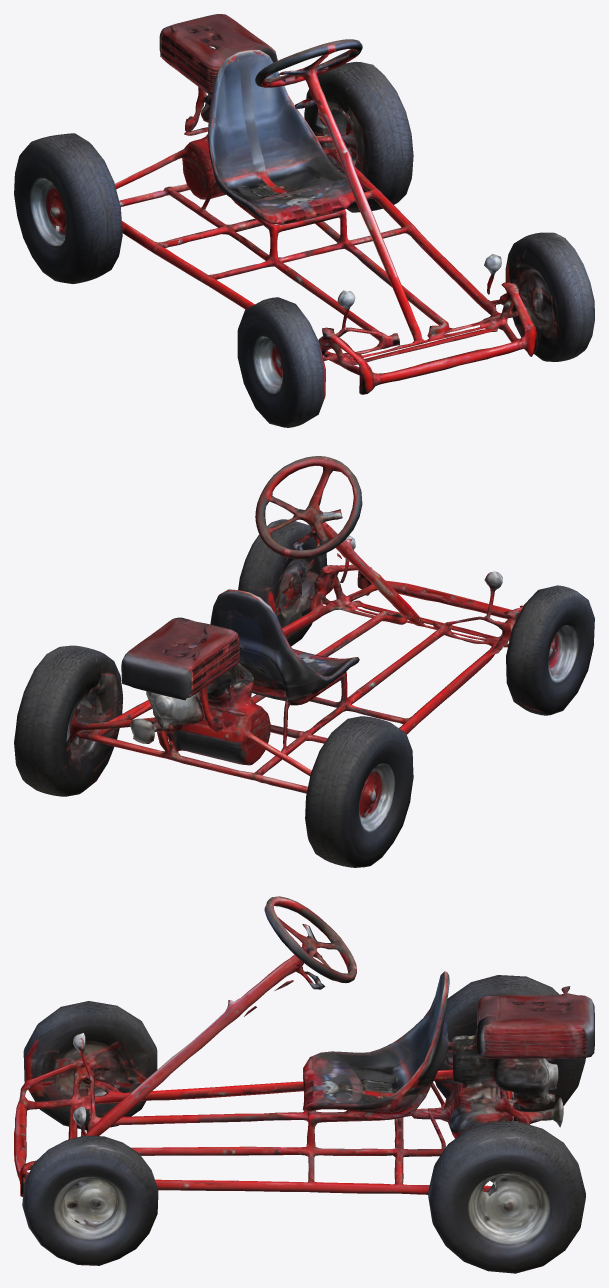
Rendered from _two_seat_go_cart_wit_0328181118_texture.glb.
3 renders of one model, top to bottom at view 1: azimuth 30°, elevation 25°; view 2: azimuth 150°, elevation 25°; view 3: azimuth 270°, elevation 25°, orthographic. The views are drawn at different scales.
Bounding box in the file's own units: 1.38 × 1.1 × 2.
1 material, 1 textured.
